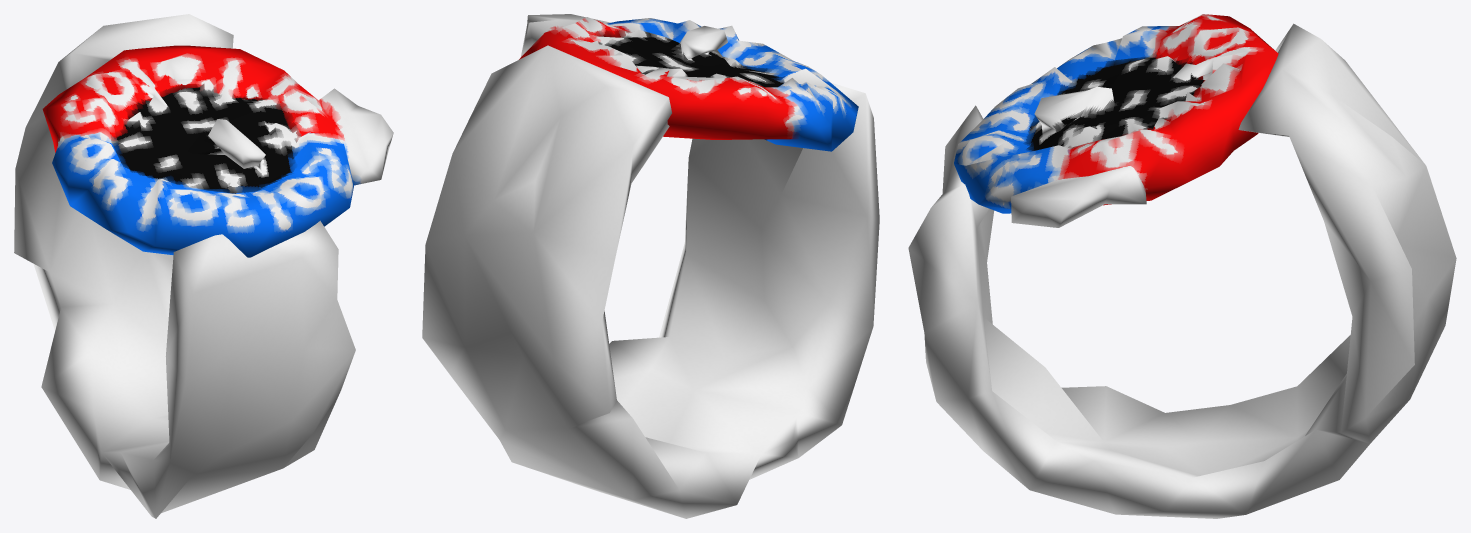
The model's file is sub cola (blue-red).glb.
3 renders of one model, left to right at view 1: azimuth 30°, elevation 25°; view 2: azimuth 150°, elevation 25°; view 3: azimuth 270°, elevation 25°, orthographic. The views are drawn at different scales.
Visible parts, largest first — view 1: watch_sub_cola_blue_red.001; view 2: watch_sub_cola_blue_red.001; view 3: watch_sub_cola_blue_red.001.
Boxes of the visible parts, left/top/right/bottom form: watch_sub_cola_blue_red.001: left=14, top=14, right=393, bottom=518; watch_sub_cola_blue_red.001: left=422, top=14, right=879, bottom=518; watch_sub_cola_blue_red.001: left=908, top=14, right=1456, bottom=518.
Size of the model in its own units: 0.0369 by 0.0491 by 0.0512.
2 materials, 2 textured.
